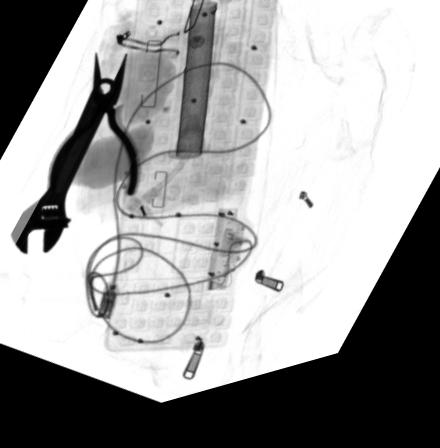Pliers: (44, 56, 139, 208)
Wrench: (9, 80, 120, 256)
